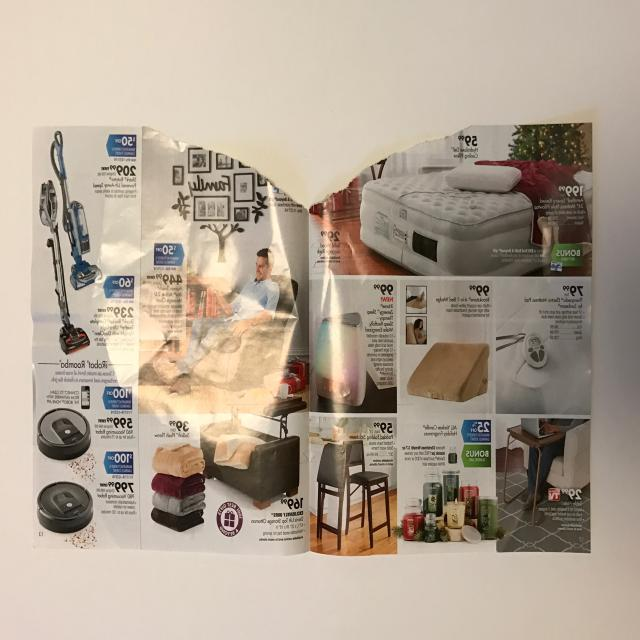paper: (23, 99, 605, 571)
